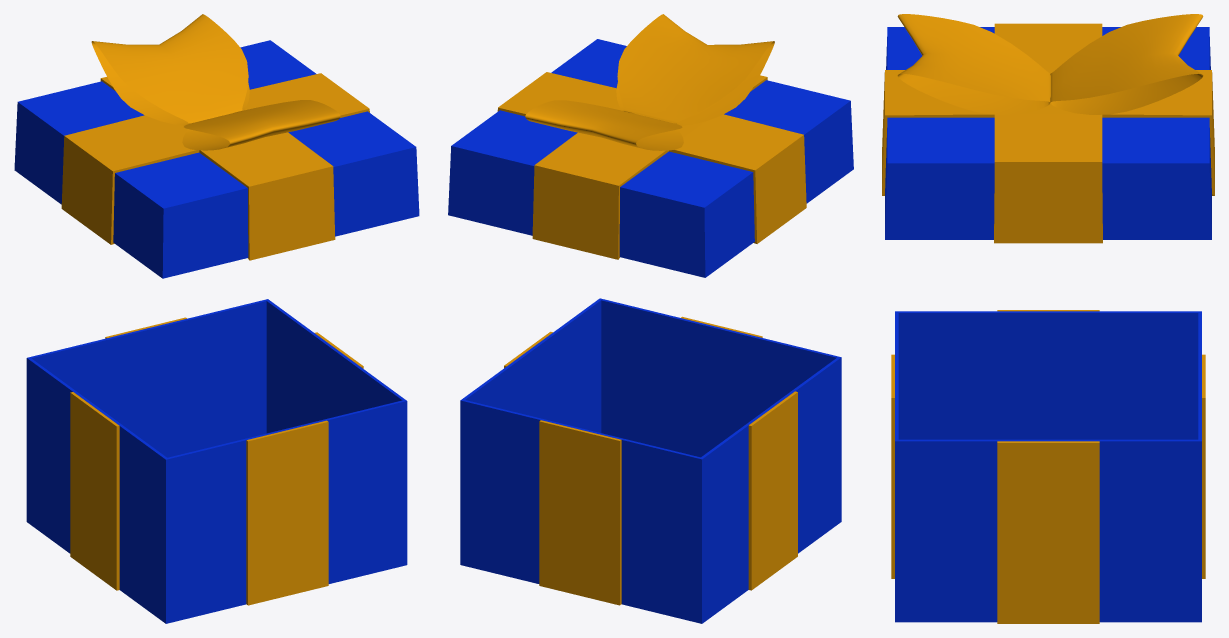
Rendered from Poklon paket plavi.fbx.
3 views of the same model, side by side, from view 1: azimuth 30°, elevation 25°; view 2: azimuth 150°, elevation 25°; view 3: azimuth 270°, elevation 25° (orthographic). The views are drawn at different scales.
Parts seen in each view (by area): view 1: Cube, Cylinder; view 2: Cube, Cylinder; view 3: Cube, Cylinder.
Part boxes in pixels (<box>): Cube: <box>26,299,407,623</box>; Cylinder: <box>14,14,419,278</box>; Cube: <box>460,298,841,623</box>; Cylinder: <box>448,14,853,277</box>; Cube: <box>891,310,1205,623</box>; Cylinder: <box>882,14,1214,243</box>.
Size of the model in its own units: 222 by 378 by 222.
